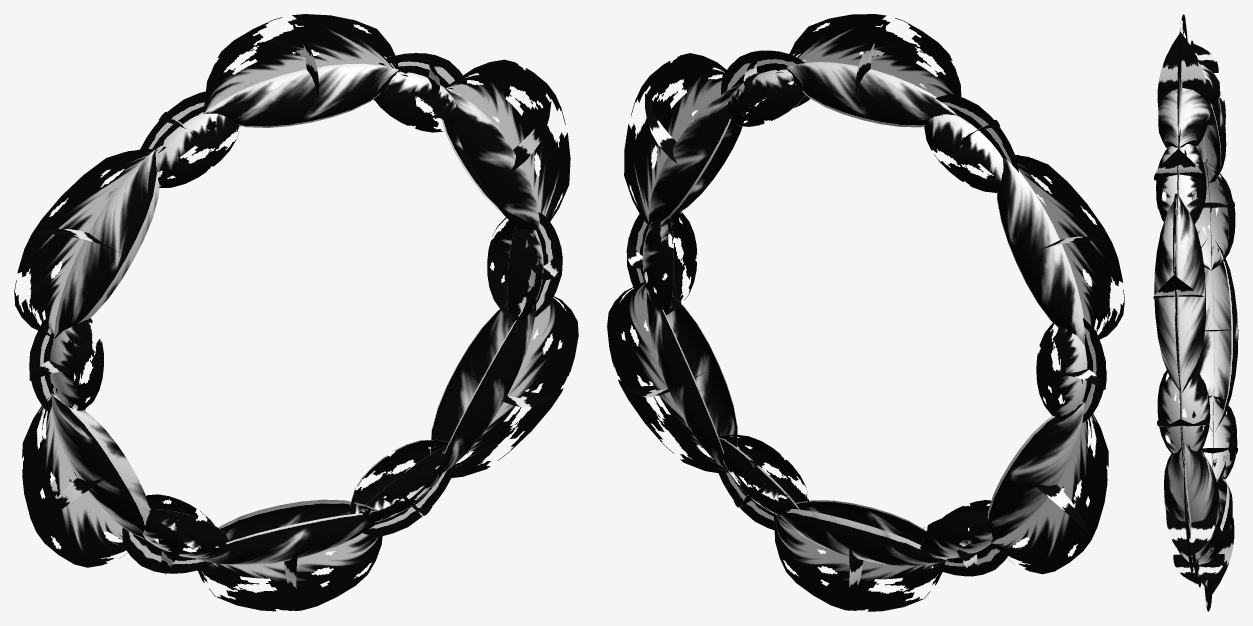
Rendered from MigCrossRing.fbx.
3 renders of one model, left to right at view 1: azimuth 30°, elevation 25°; view 2: azimuth 150°, elevation 25°; view 3: azimuth 270°, elevation 25°, orthographic. The views are drawn at different scales.
Parts seen in each view (by area): view 1: 0001_SM_e_Skl_Wa_2Mig_WaveCrossRing001, 0000_SM_e_Skl_Wa_2Mig_WaveCrossRing001, 0004_SM_e_Skl_Wa_2Mig_WaveCrossRing001, 0003_SM_e_Skl_Wa_2Mig_WaveCrossRing001, 0002_SM_e_Skl_Wa_2Mig_WaveCrossRing001; view 2: 0001_SM_e_Skl_Wa_2Mig_WaveCrossRing001, 0000_SM_e_Skl_Wa_2Mig_WaveCrossRing001, 0004_SM_e_Skl_Wa_2Mig_WaveCrossRing001, 0003_SM_e_Skl_Wa_2Mig_WaveCrossRing001, 0002_SM_e_Skl_Wa_2Mig_WaveCrossRing001; view 3: 0000_SM_e_Skl_Wa_2Mig_WaveCrossRing001, 0004_SM_e_Skl_Wa_2Mig_WaveCrossRing001, 0002_SM_e_Skl_Wa_2Mig_WaveCrossRing001, 0001_SM_e_Skl_Wa_2Mig_WaveCrossRing001, 0003_SM_e_Skl_Wa_2Mig_WaveCrossRing001.
Part boxes in pixels (x1,y1,x2,y2): 0001_SM_e_Skl_Wa_2Mig_WaveCrossRing001: [14, 14, 578, 611]; 0000_SM_e_Skl_Wa_2Mig_WaveCrossRing001: [51, 63, 539, 565]; 0004_SM_e_Skl_Wa_2Mig_WaveCrossRing001: [50, 71, 543, 558]; 0003_SM_e_Skl_Wa_2Mig_WaveCrossRing001: [29, 53, 562, 573]; 0002_SM_e_Skl_Wa_2Mig_WaveCrossRing001: [29, 22, 561, 605]; 0001_SM_e_Skl_Wa_2Mig_WaveCrossRing001: [607, 14, 1124, 611]; 0000_SM_e_Skl_Wa_2Mig_WaveCrossRing001: [646, 62, 1084, 565]; 0004_SM_e_Skl_Wa_2Mig_WaveCrossRing001: [642, 69, 1087, 558]; 0003_SM_e_Skl_Wa_2Mig_WaveCrossRing001: [626, 50, 1105, 576]; 0002_SM_e_Skl_Wa_2Mig_WaveCrossRing001: [625, 22, 1107, 605]; 0000_SM_e_Skl_Wa_2Mig_WaveCrossRing001: [1154, 81, 1238, 559]; 0004_SM_e_Skl_Wa_2Mig_WaveCrossRing001: [1156, 64, 1237, 564]; 0002_SM_e_Skl_Wa_2Mig_WaveCrossRing001: [1153, 32, 1238, 594]; 0001_SM_e_Skl_Wa_2Mig_WaveCrossRing001: [1173, 14, 1214, 611]; 0003_SM_e_Skl_Wa_2Mig_WaveCrossRing001: [1177, 40, 1213, 587].
Size of the model in its own units: 262 by 278 by 38.28.
Materials: 5 (5 with a texture image).
